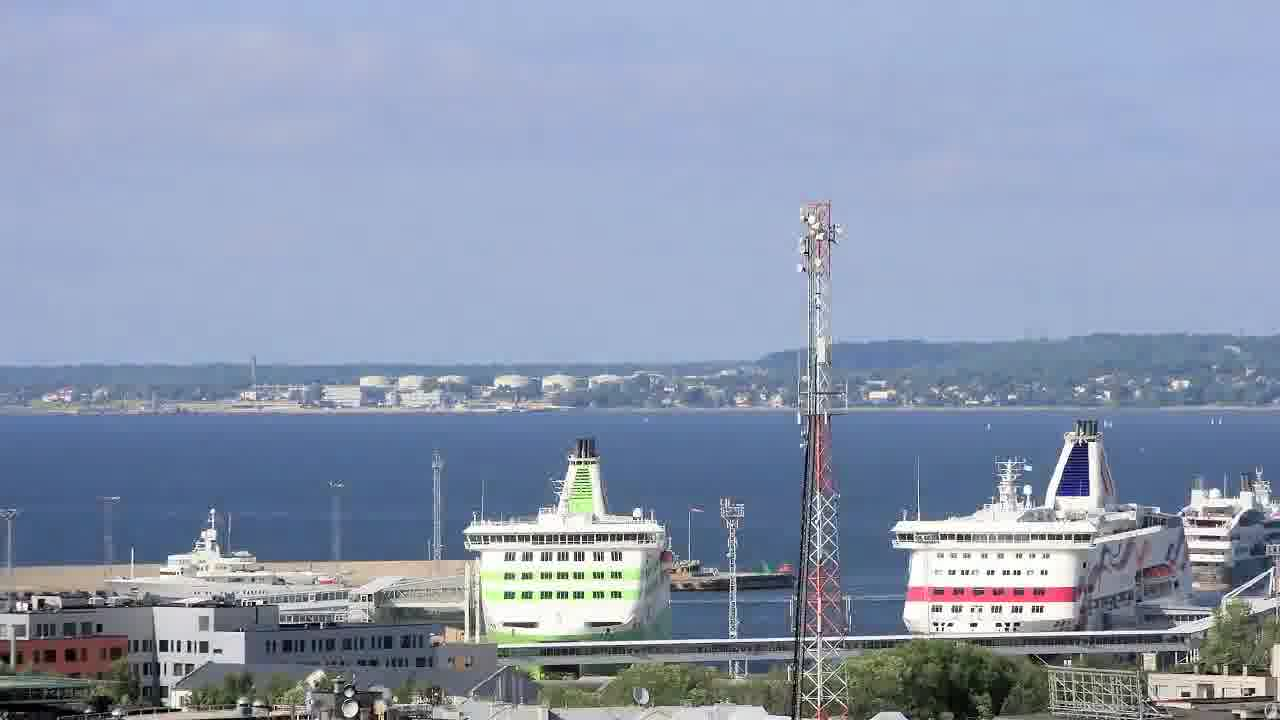type-3: (868, 415, 1225, 638), (436, 434, 694, 670), (106, 523, 355, 611), (1141, 467, 1279, 607)
